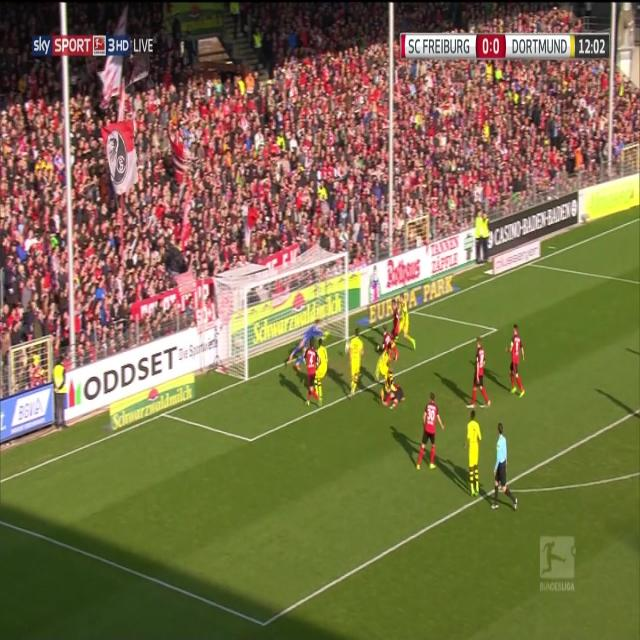Ball: (342, 340, 351, 357)
Goalkeeper: (287, 315, 328, 373)
Player: (414, 390, 446, 478), (504, 322, 531, 403), (462, 410, 484, 500), (468, 334, 491, 411), (300, 336, 320, 408), (399, 293, 421, 349), (348, 327, 365, 398), (314, 336, 329, 406), (378, 377, 404, 417), (377, 326, 403, 363), (389, 295, 402, 342), (376, 350, 392, 381)
Referee: (488, 421, 518, 515)
